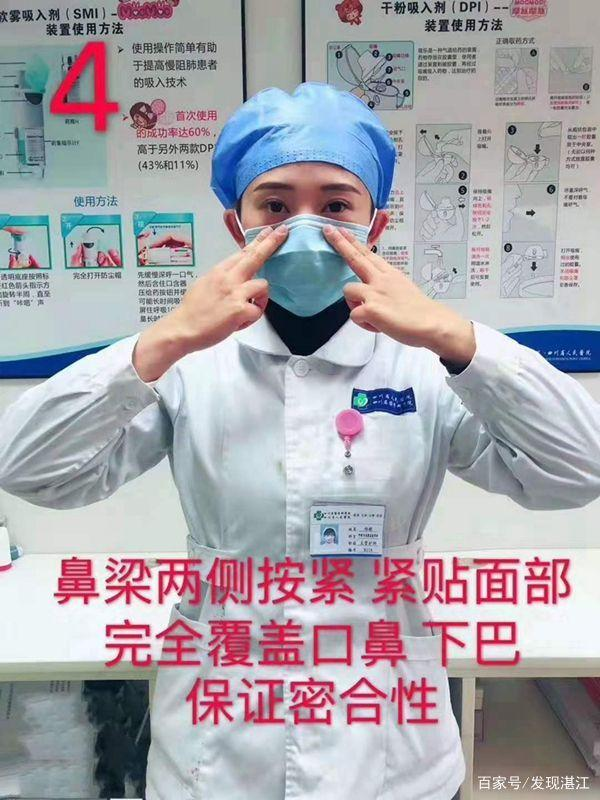mask: (218, 200, 387, 314)
